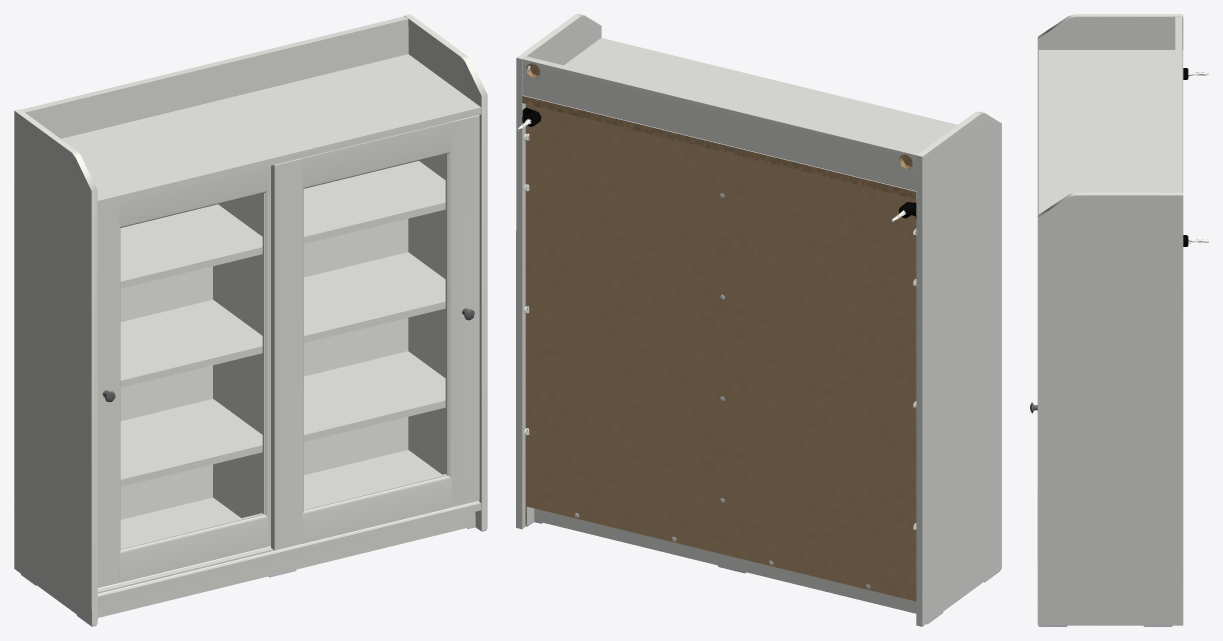
File: 24 - HAUGA Glass-door cabinet - white 105x116 cm.glb
3 views of the same model, side by side, from view 1: azimuth 30°, elevation 25°; view 2: azimuth 150°, elevation 25°; view 3: azimuth 270°, elevation 25° (orthographic). The views are drawn at different scales.
Bounding box in the file's own units: 1.05 × 1.16 × 0.4361.
Materials: 2 (1 with a texture image).
